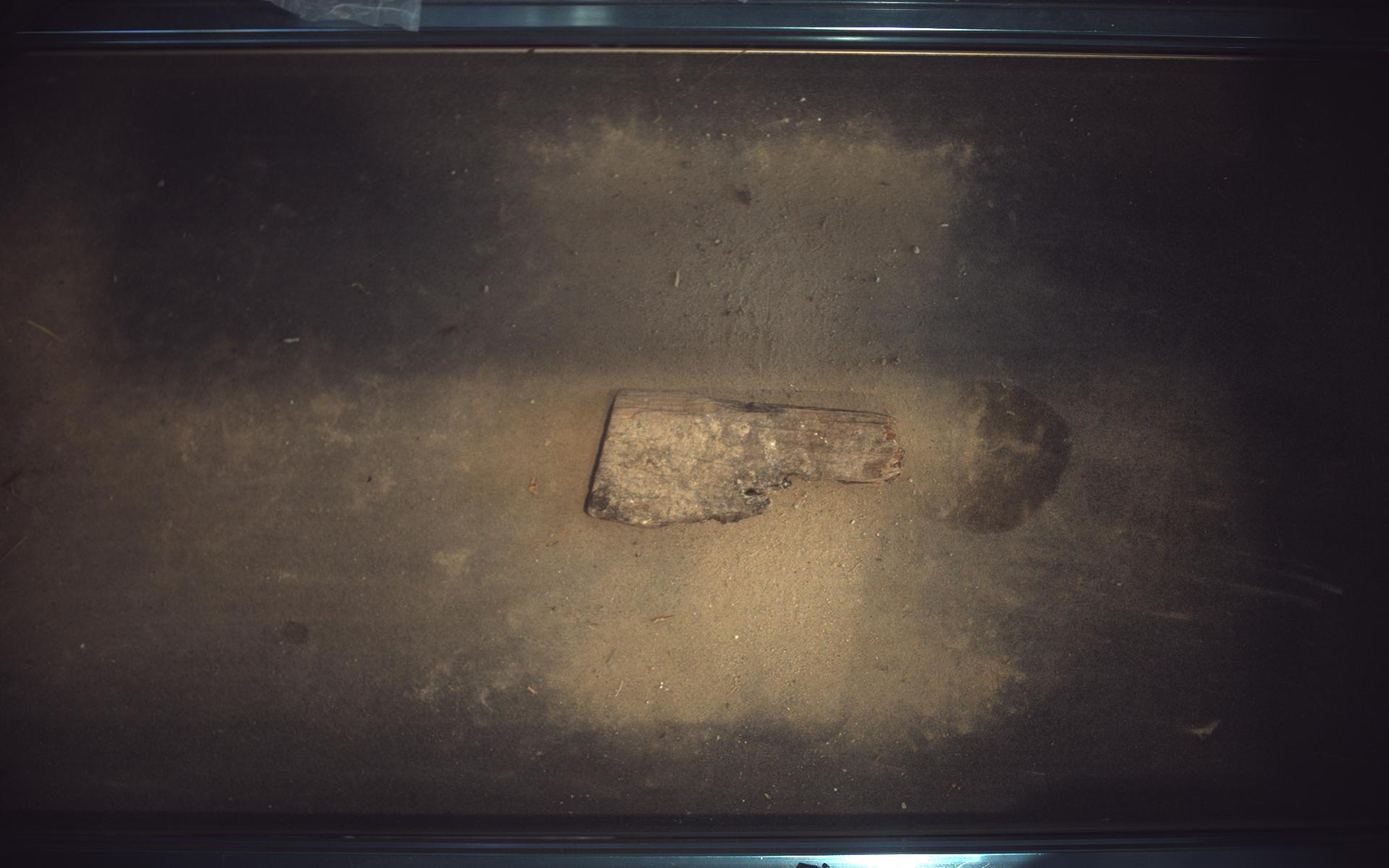wood: (586, 391, 905, 527)
